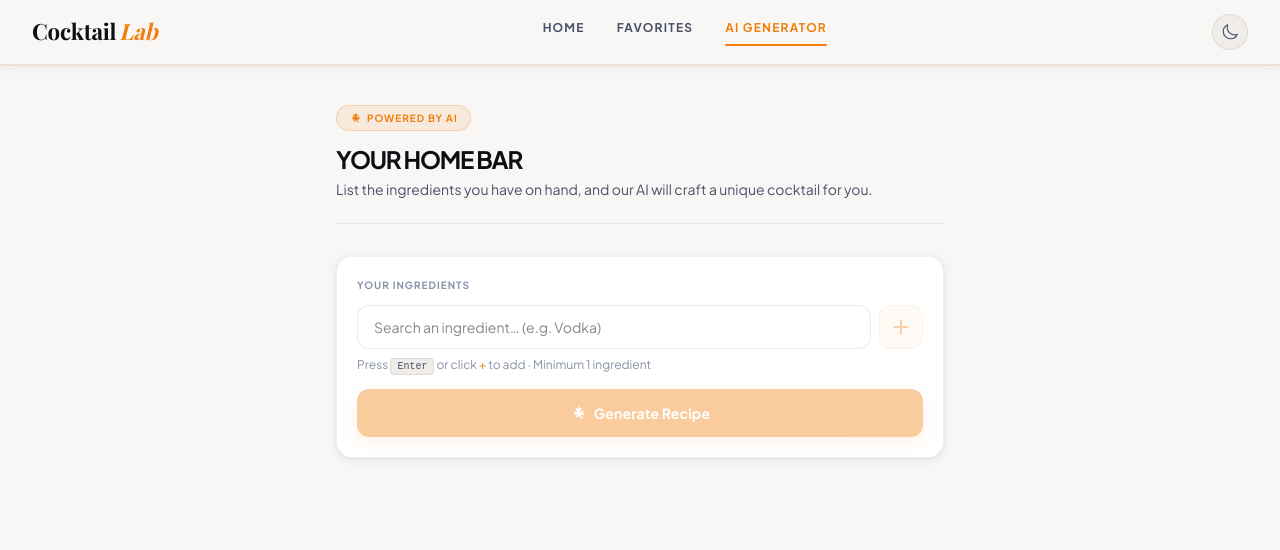
Test case: GenerateAI view › enables Generate Recipe after adding an ingredient
This screenshot has width=1280, height=550.
Type "Bourbon" into the field with placeholder "Search an ingredient… (e.g. Vodka)".
click(614, 327); type("Bourbon")  # box [357, 305, 871, 349]
Then press Enter
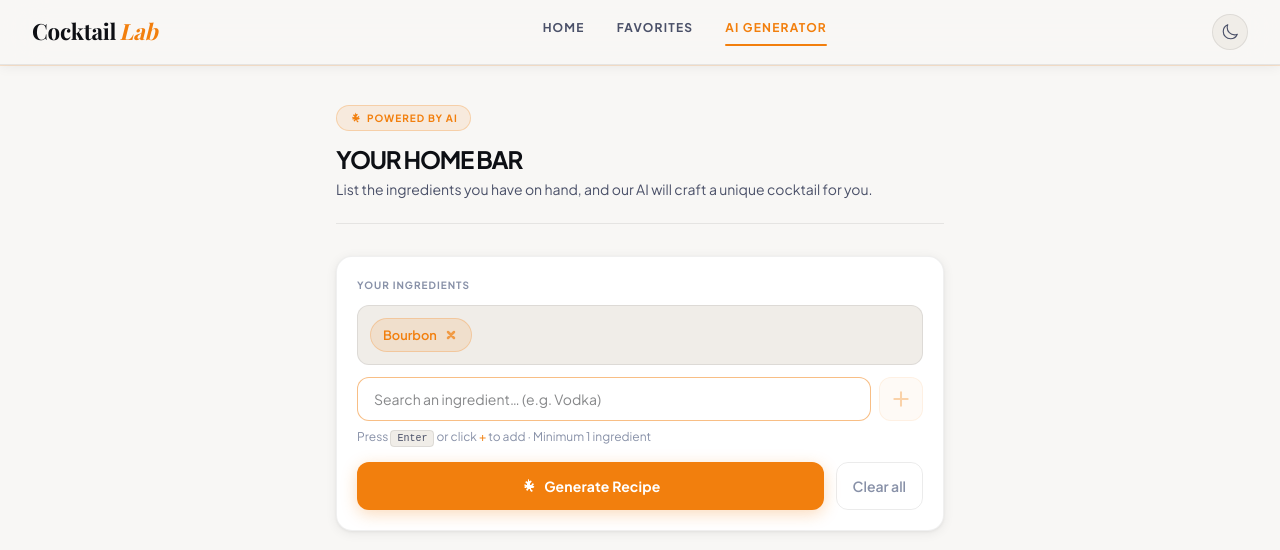
Check: the button "Generate Recipe" is enabled, box [357, 462, 824, 510]
